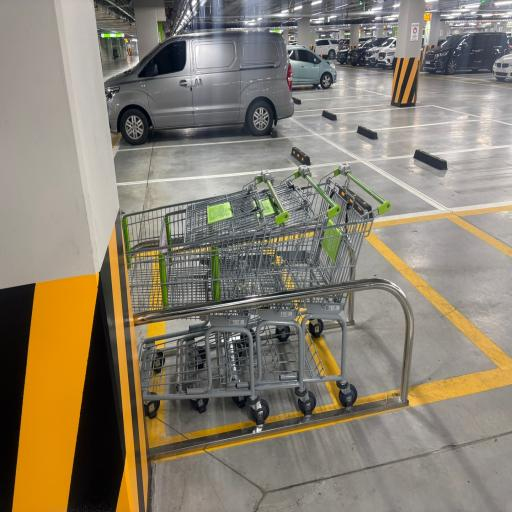combined_cart: (124, 163, 417, 455)
